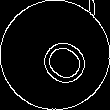O_NW: (22, 23, 88, 87)
